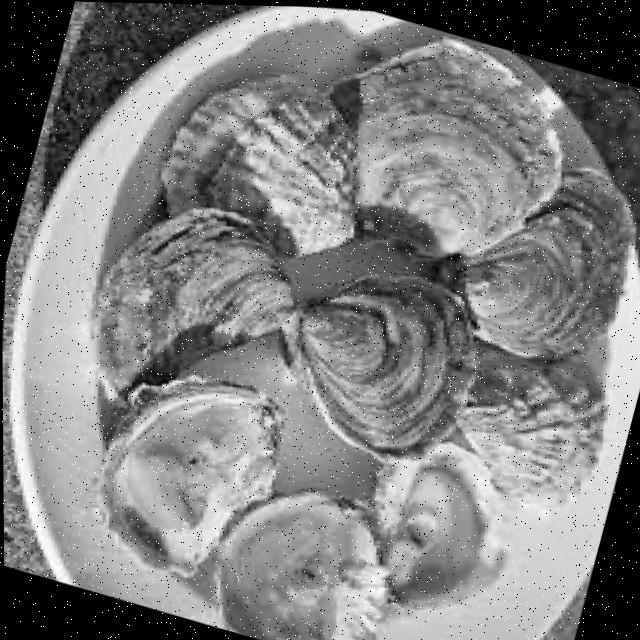Oyster-Indeterminate: (330, 40, 557, 255), (98, 207, 293, 391), (161, 76, 354, 256), (465, 172, 634, 356), (301, 276, 474, 451), (457, 340, 604, 504)
Oyster-Open: (104, 376, 280, 570), (216, 492, 388, 640), (372, 444, 504, 604)
